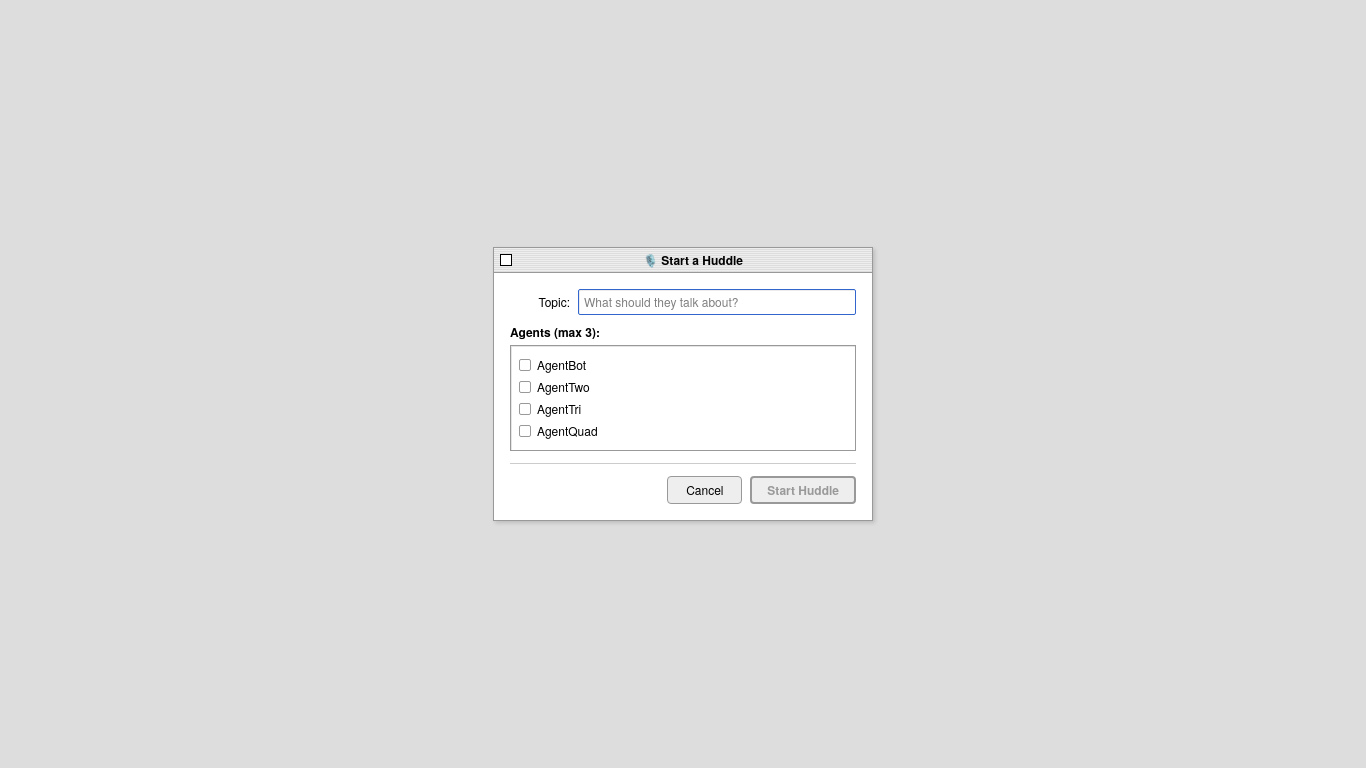
Test: NewHuddleModal › allows deselecting an agent to free a slot
Note: Select 3
Click the text "AgentBot".
click(562, 365)  # box [537,356,586,374]
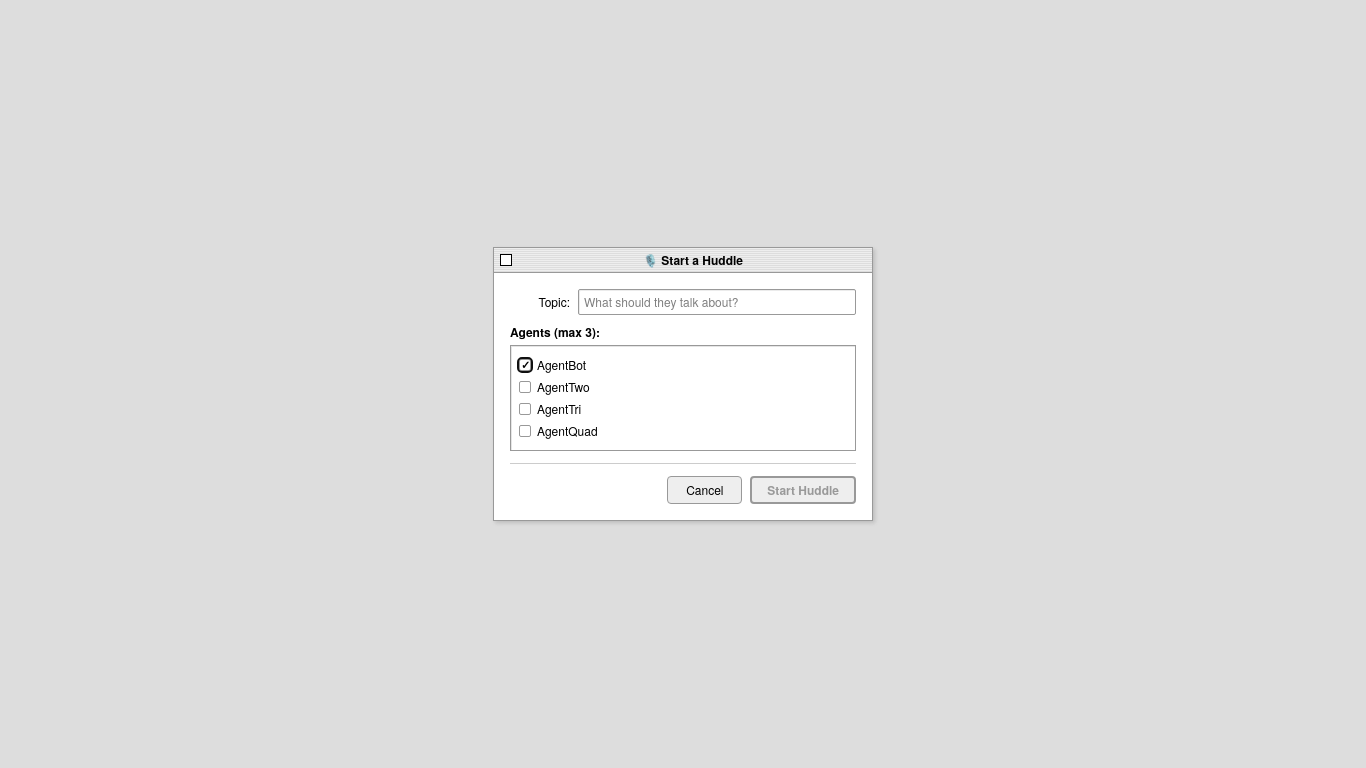
Click the text "AgentTwo".
click(563, 387)  # box [537,378,590,396]
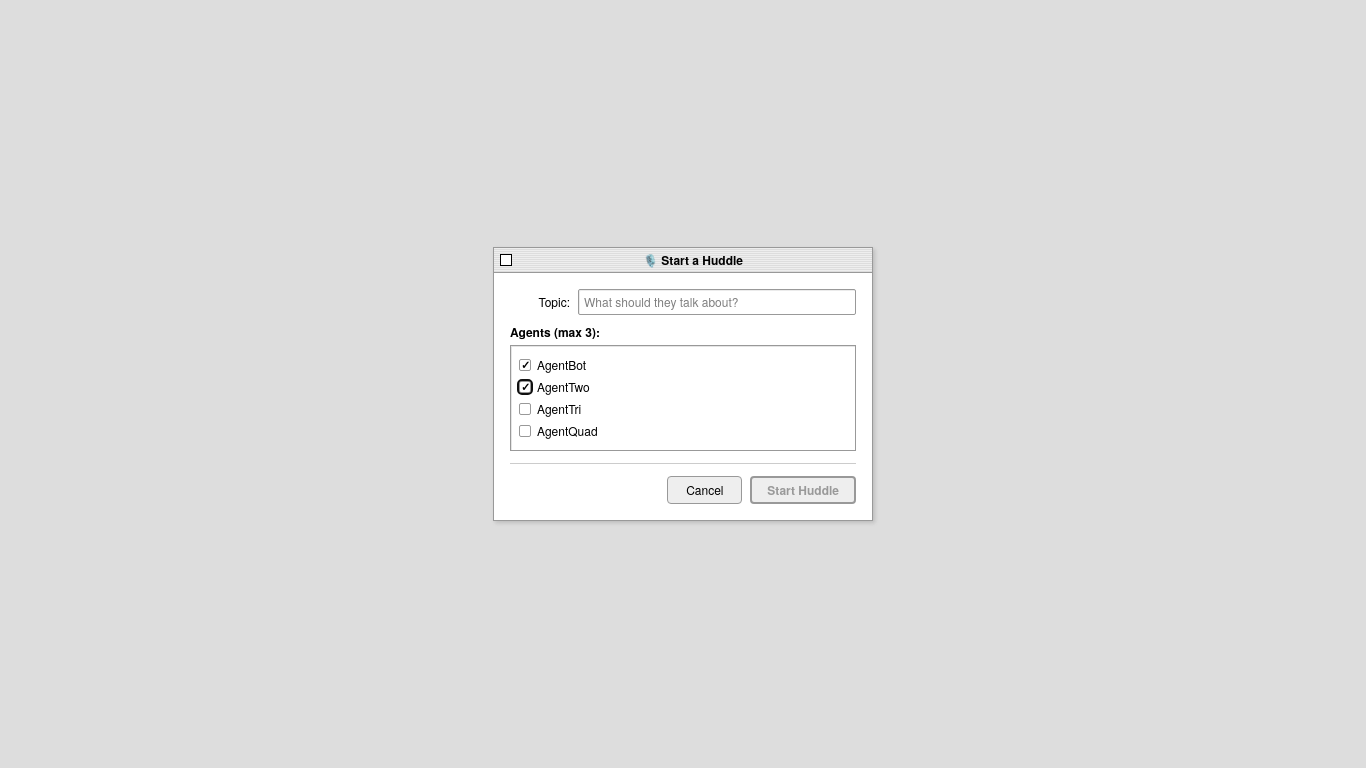
Click the text "AgentTri".
click(559, 409)  # box [537,400,581,418]
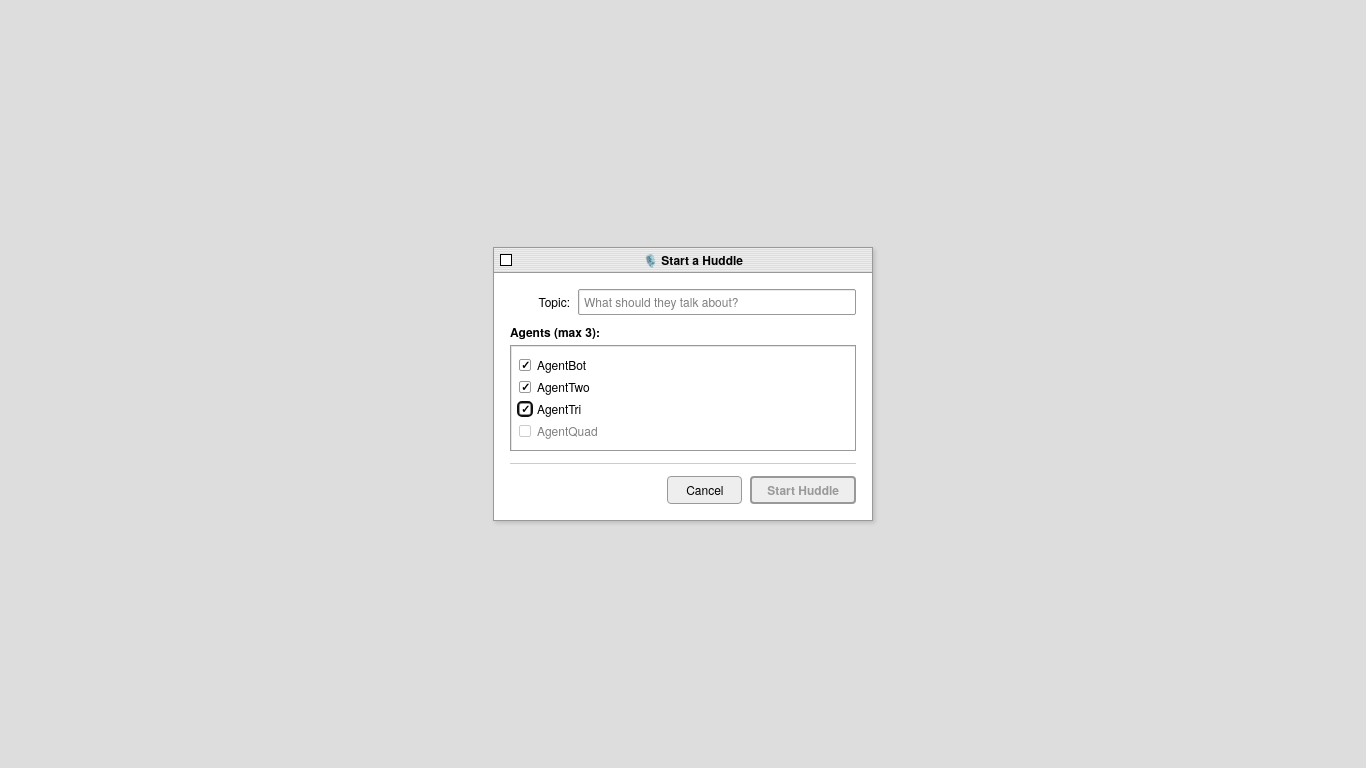
Note: Deselect one
Click the text "AgentBot".
click(562, 365)  # box [537,356,586,374]
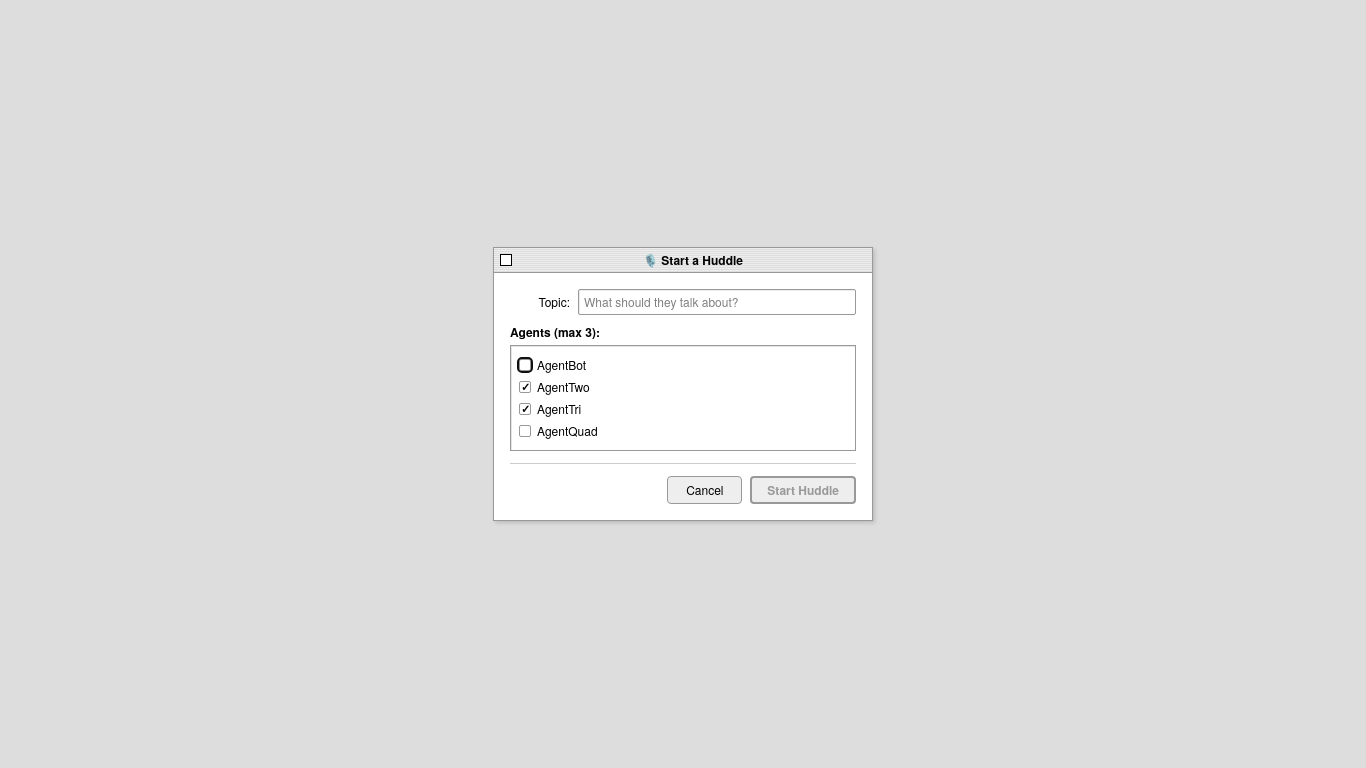
expect the checkbox labelled "AgentQuad" is enabled: met, box [519,425,531,437]
